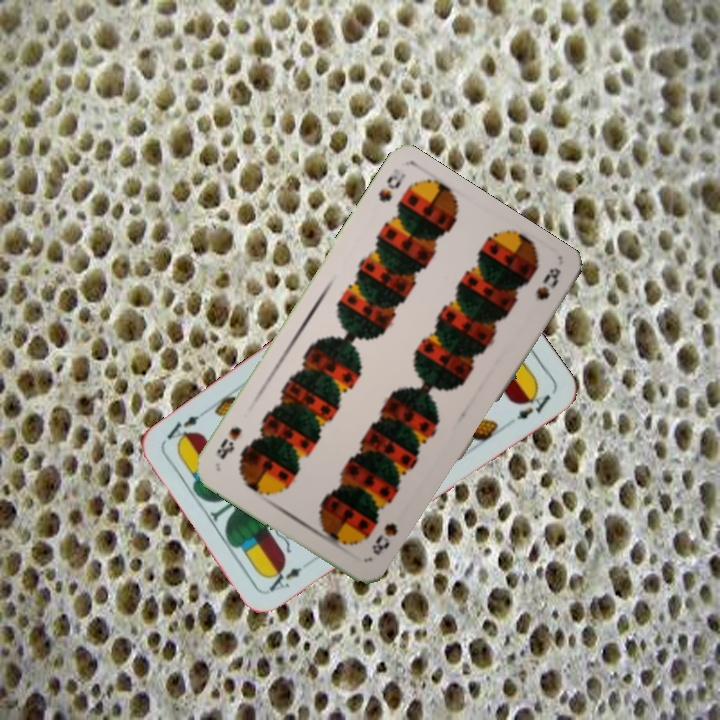EA: (264, 562, 305, 595)
S8: (374, 164, 409, 205), (367, 518, 401, 558)
